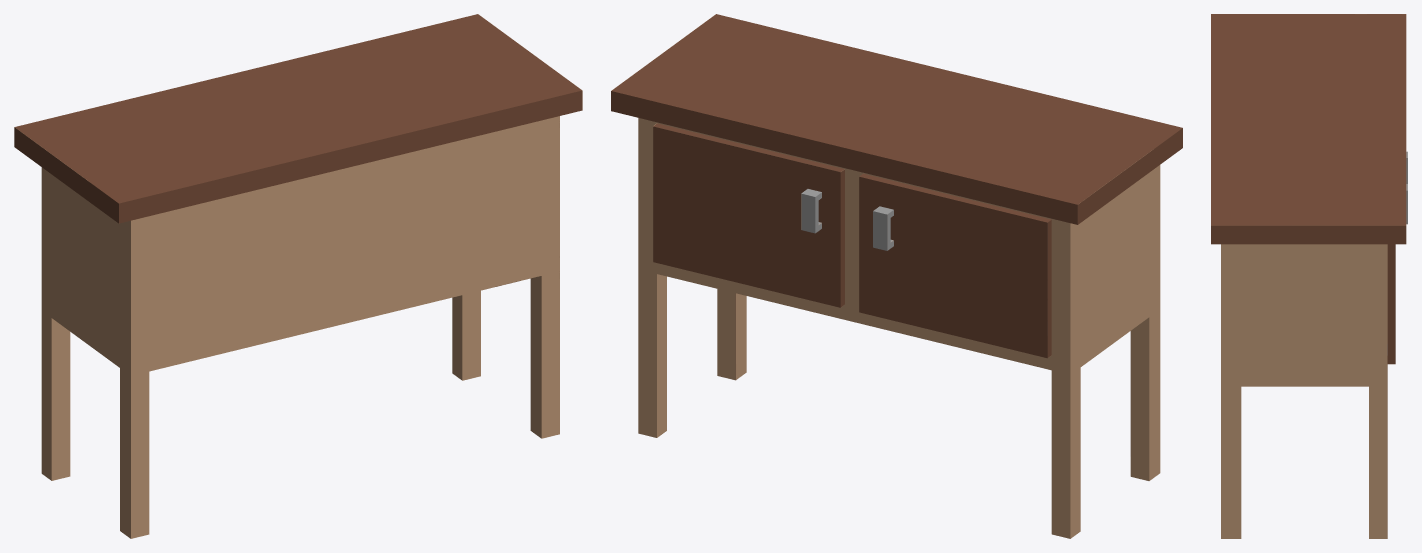
Rendered from cabinet_closed.fbx.
The picture shows the model from 3 angles, left to right: view 1: azimuth 30°, elevation 25°; view 2: azimuth 150°, elevation 25°; view 3: azimuth 270°, elevation 25°; orthographic projection. The views are drawn at different scales.
Visible parts, largest first — view 1: cabinet_orig; view 2: cabinet_orig; view 3: cabinet_orig.
Part boxes in pixels (x1,y1,x2,y2): cabinet_orig: (14, 14, 582, 538); cabinet_orig: (611, 14, 1182, 538); cabinet_orig: (1211, 14, 1407, 538).
Size of the model in its own units: 1.82 by 1.29 by 0.7173.
